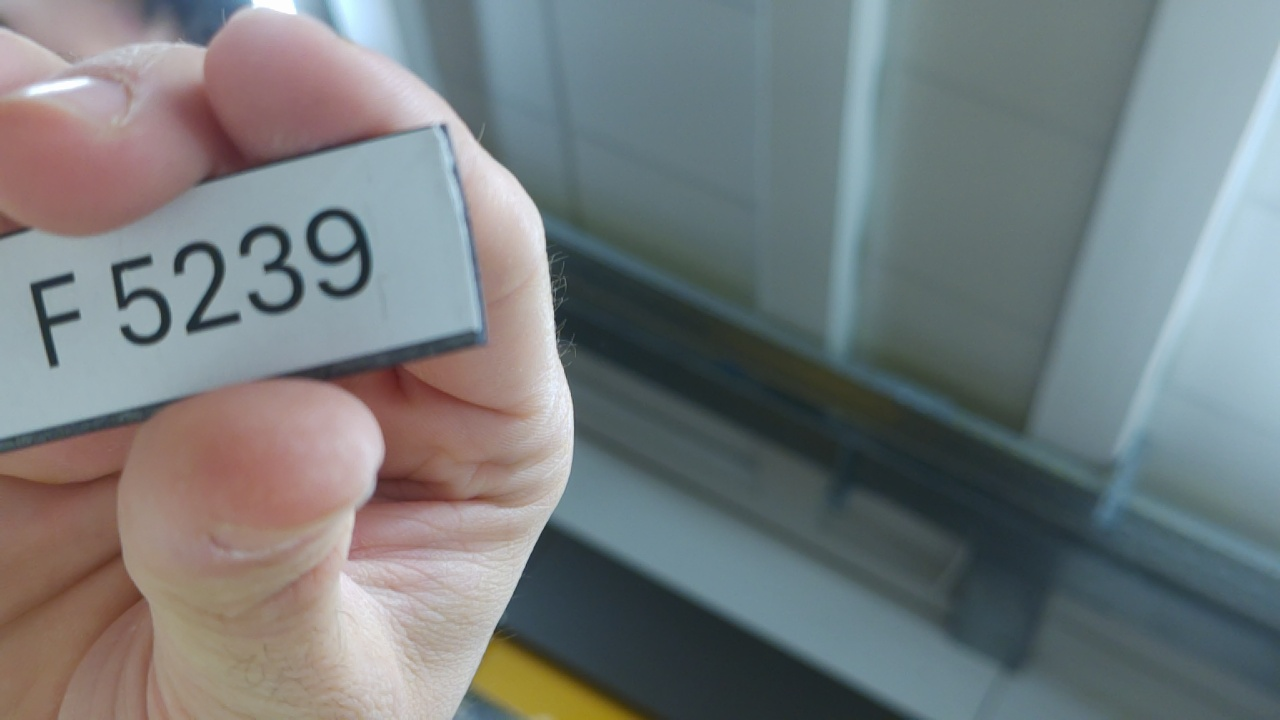license_plate: (2, 112, 497, 465)
